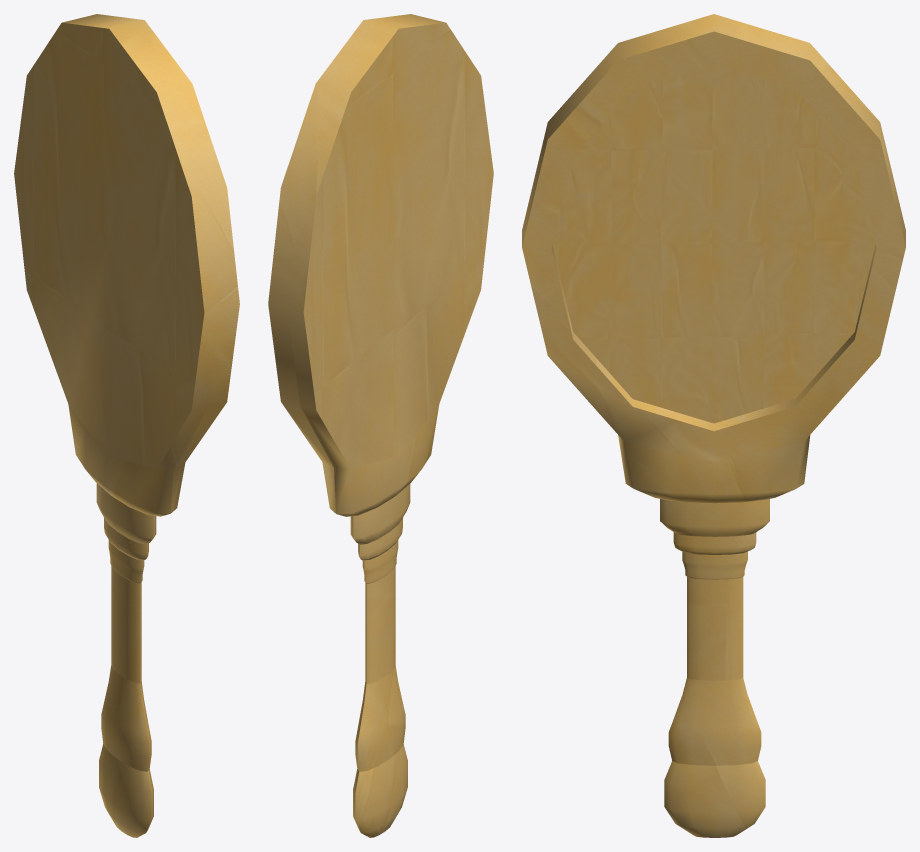
The model's file is Mirror.fbx.
The picture shows the model from 3 angles, left to right: view 1: azimuth 30°, elevation 25°; view 2: azimuth 150°, elevation 25°; view 3: azimuth 270°, elevation 25°; orthographic projection.
Parts seen in each view (by area): view 1: polySurface1; view 2: polySurface1; view 3: polySurface2, polySurface1.
Boxes of the visible parts, bbox=[...] form: polySurface1: bbox=[14, 14, 239, 837]; polySurface1: bbox=[268, 14, 493, 837]; polySurface2: bbox=[552, 65, 875, 423]; polySurface1: bbox=[522, 14, 905, 837].
Size of the model in its own units: 0.1864 by 3.4 by 1.45.
